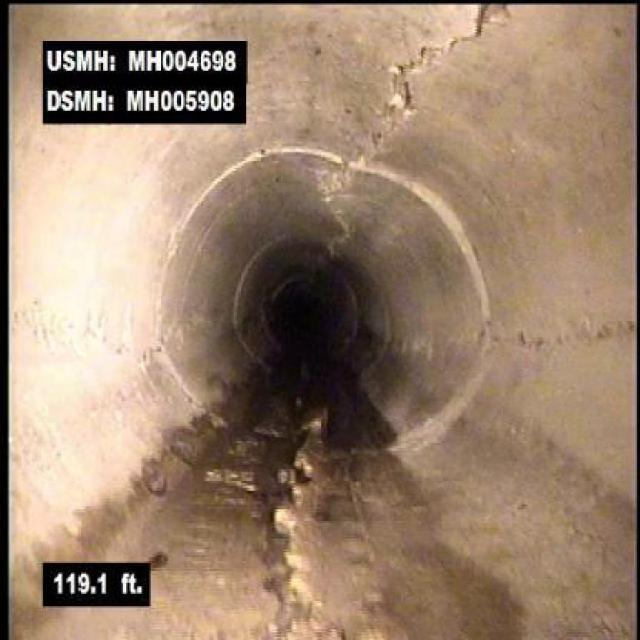Buckling: (258, 406, 329, 632), (405, 5, 503, 72), (326, 123, 399, 199), (376, 61, 422, 116)
Crack: (18, 297, 138, 360), (506, 318, 631, 357)
Joint offset: (411, 177, 492, 305)
